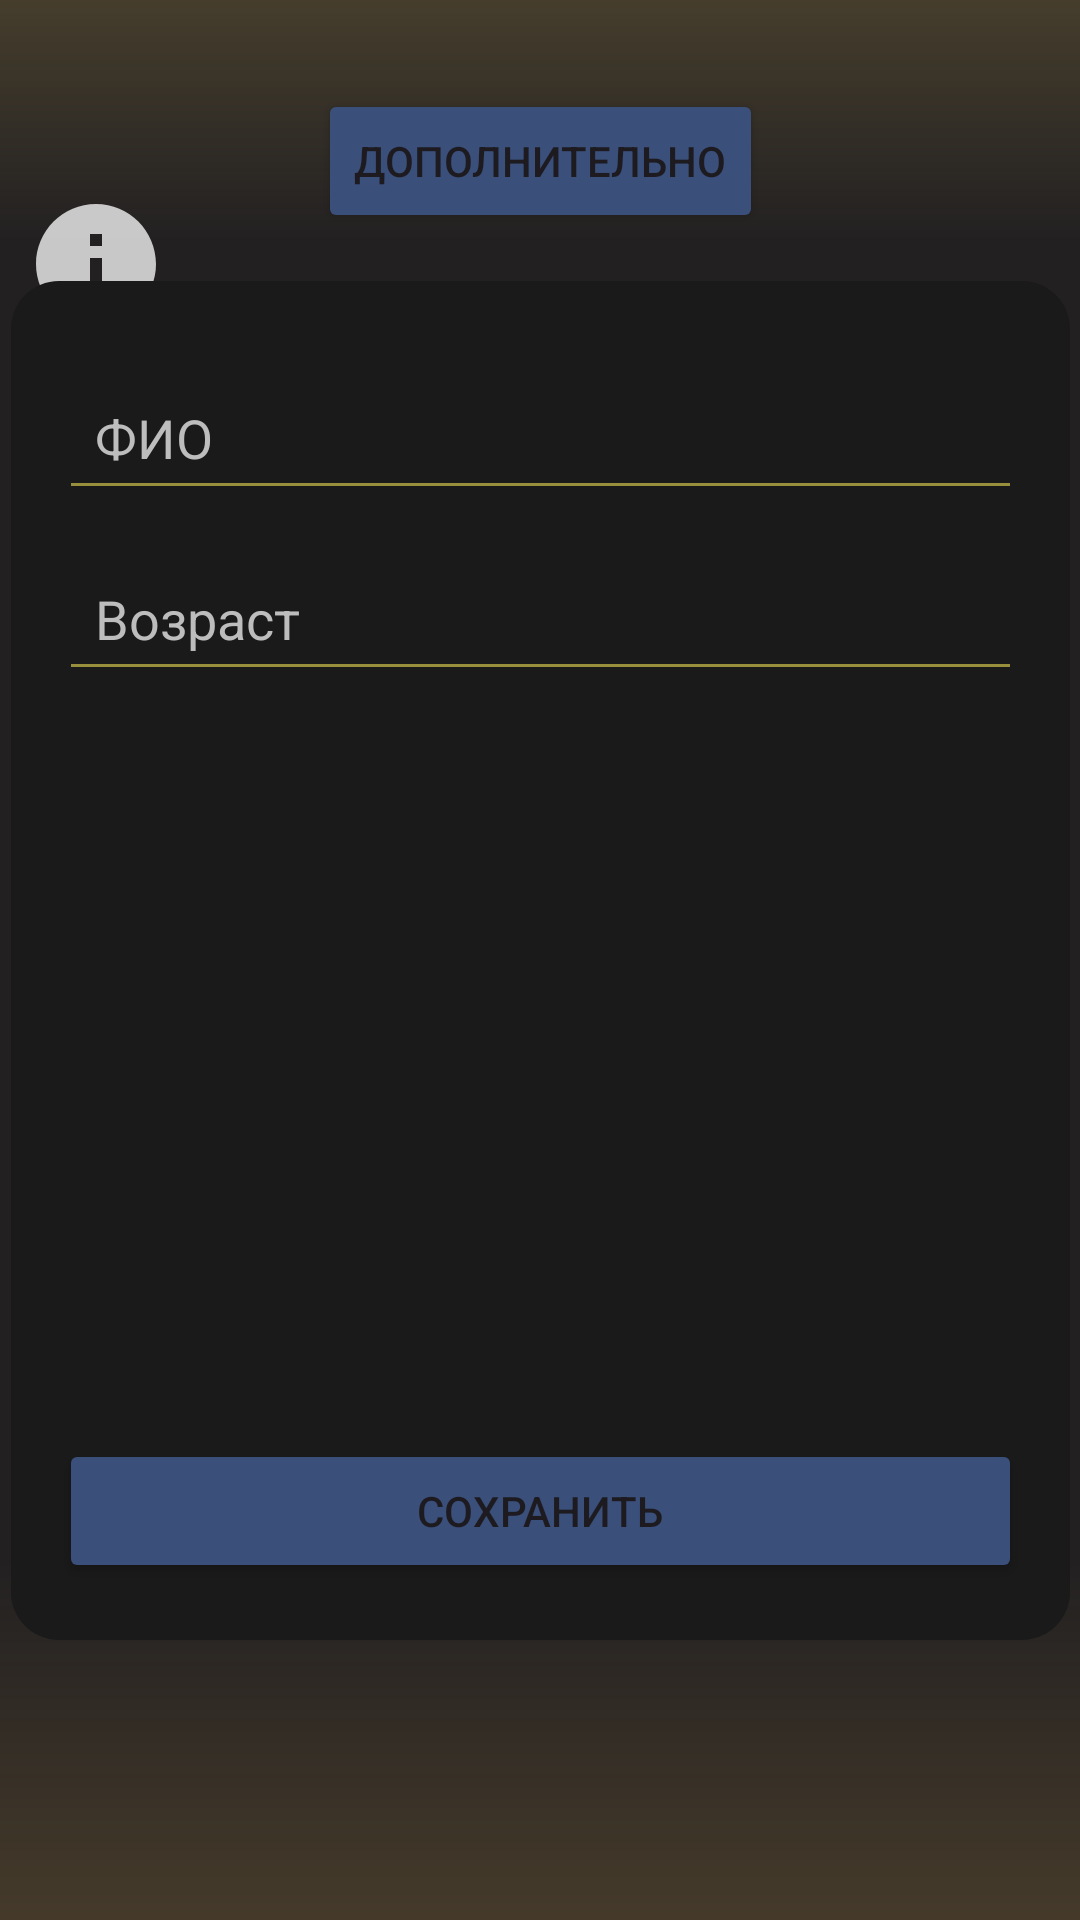

Icons on this 1080w x 1920h Android screen, each with the point to tap as point (x, y):
Инфо: point (96, 244)
